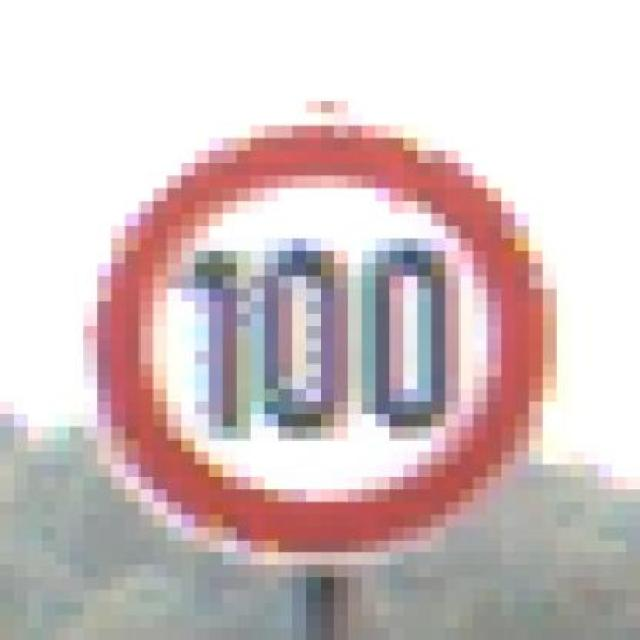forb_speed_over_100: (92, 122, 555, 558)
